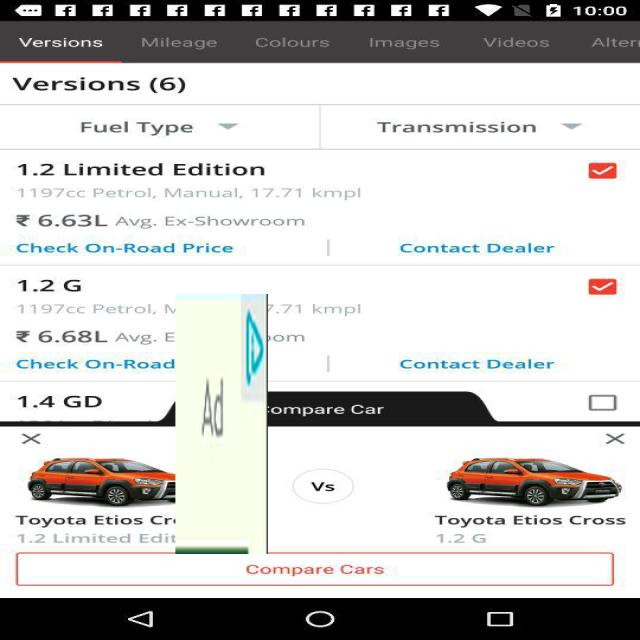sneaking: (175, 294, 268, 554)
